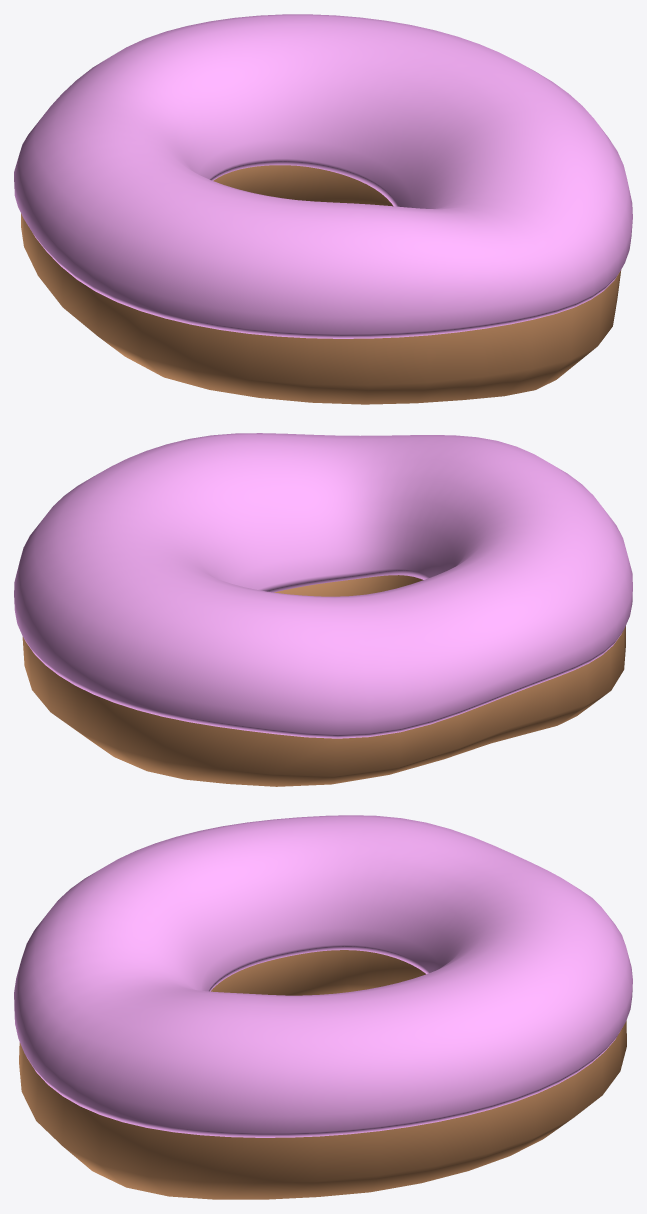
Rendered from dount.glb.
3 renders of one model, top to bottom at view 1: azimuth 30°, elevation 25°; view 2: azimuth 150°, elevation 25°; view 3: azimuth 270°, elevation 25°, orthographic. The views are drawn at different scales.
Parts seen in each view (by area): view 1: Icing, Donut; view 2: Icing, Donut; view 3: Icing, Donut.
Part boxes in pixels (left/top/right/bottom): Icing: left=14, top=14, right=632, bottom=338; Donut: left=21, top=165, right=621, bottom=404; Icing: left=14, top=433, right=632, bottom=738; Donut: left=22, top=575, right=625, bottom=786; Icing: left=14, top=815, right=632, bottom=1137; Donut: left=19, top=950, right=626, bottom=1199.
Bounding box in the file's own units: 1.53 × 0.6235 × 1.59.
